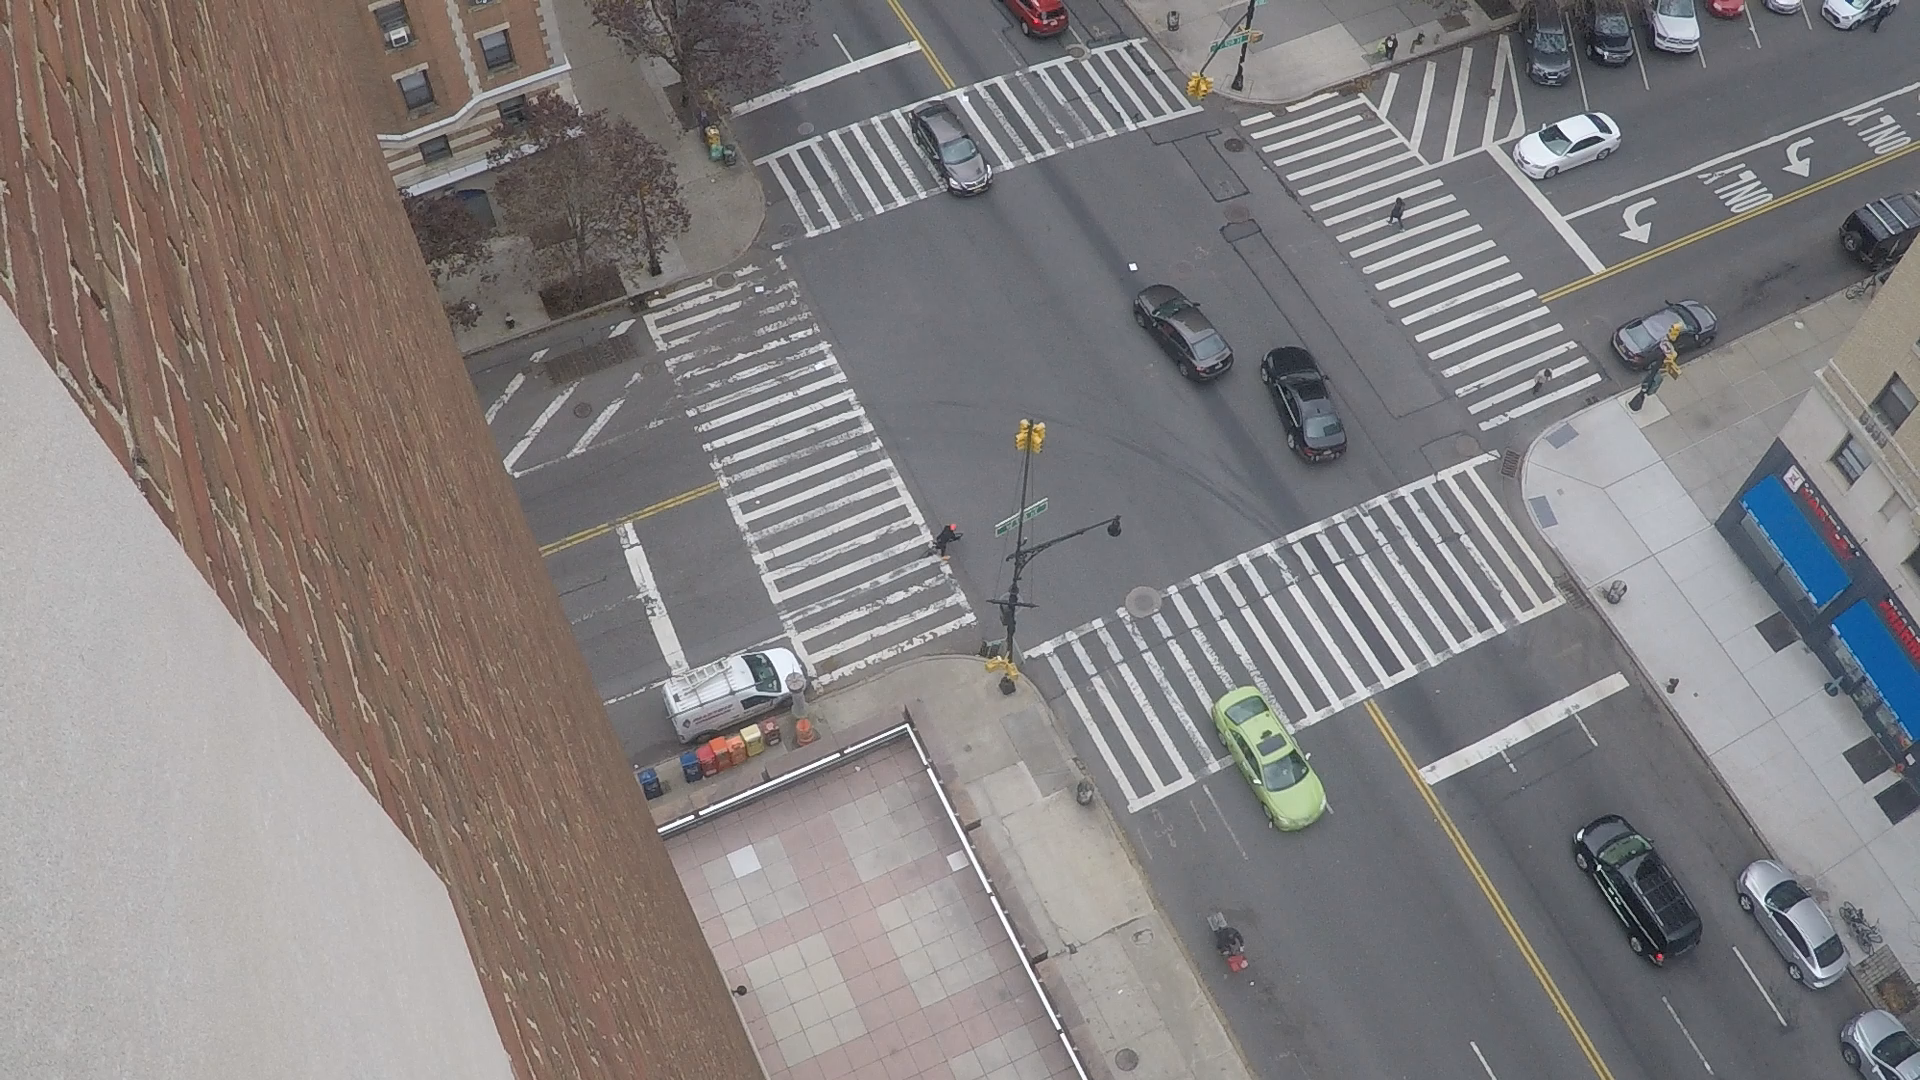Car: (996, 0, 1021, 24), (968, 133, 975, 142), (1634, 0, 1636, 18), (1760, 0, 1763, 7)
